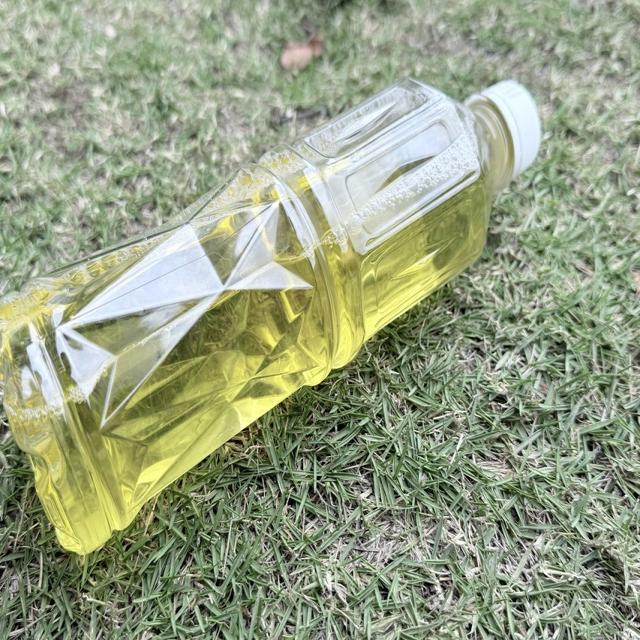high: (0, 80, 539, 553)
